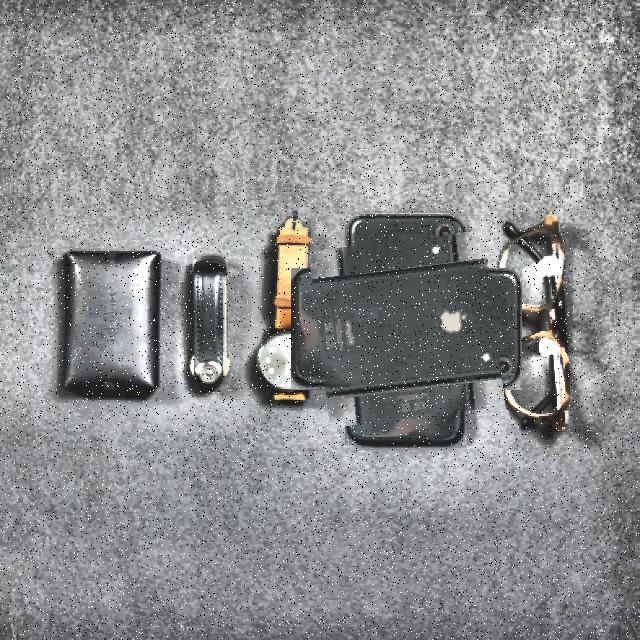Phone: (313, 235, 500, 423)
